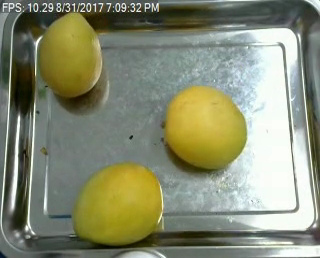Mango: (71, 163, 160, 245), (163, 83, 247, 166), (36, 11, 102, 96)
